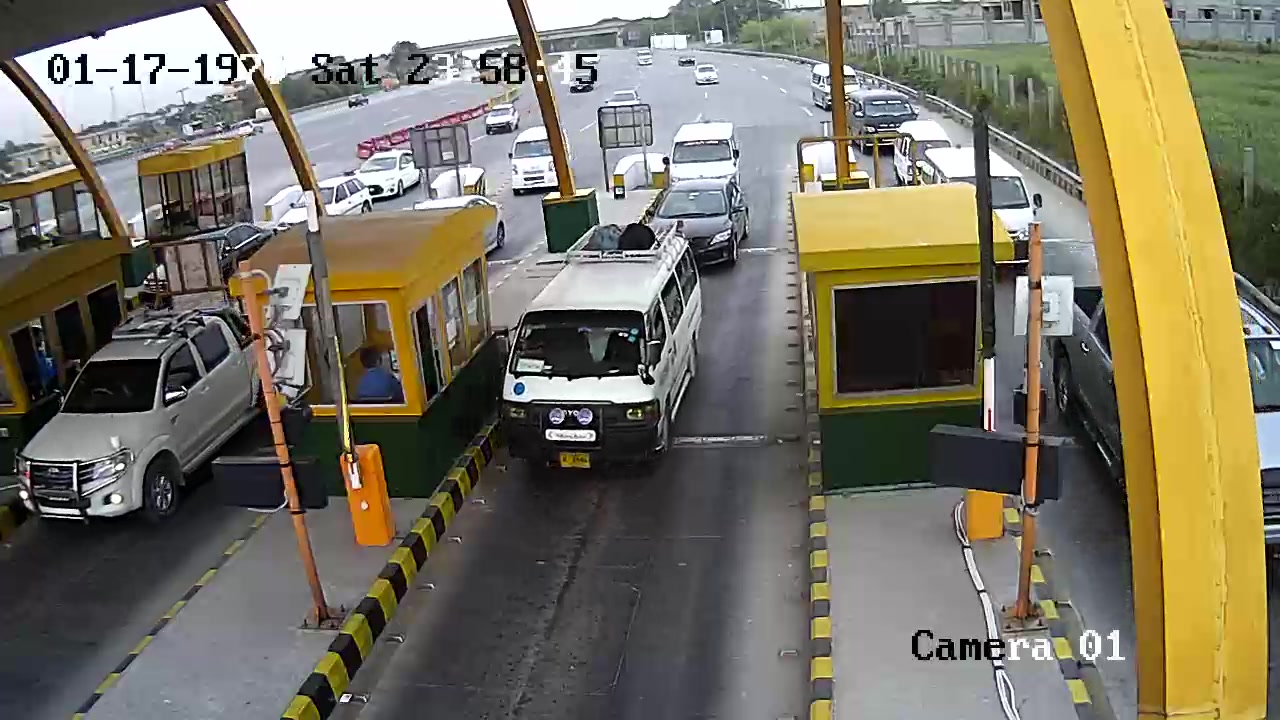F3: (492, 230, 710, 503)
